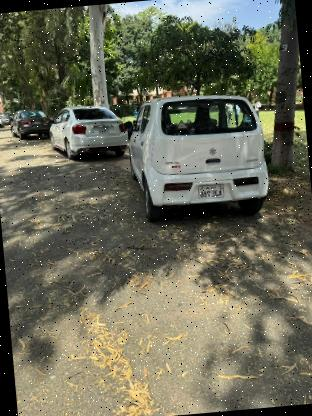car: (121, 86, 275, 229), (43, 94, 132, 166), (5, 106, 52, 144)
